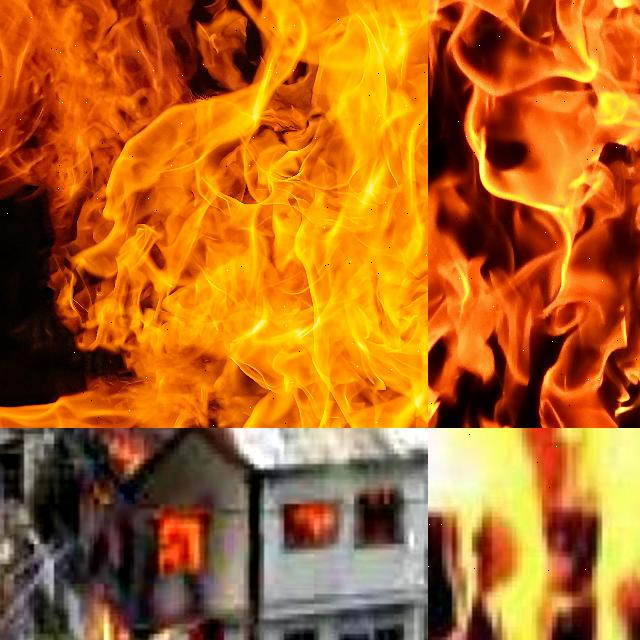fire: (0, 0, 428, 428), (428, 0, 640, 428), (428, 428, 640, 640), (497, 428, 640, 624), (89, 428, 156, 478), (159, 512, 206, 573), (284, 502, 339, 550), (82, 594, 132, 640), (144, 622, 221, 640)
